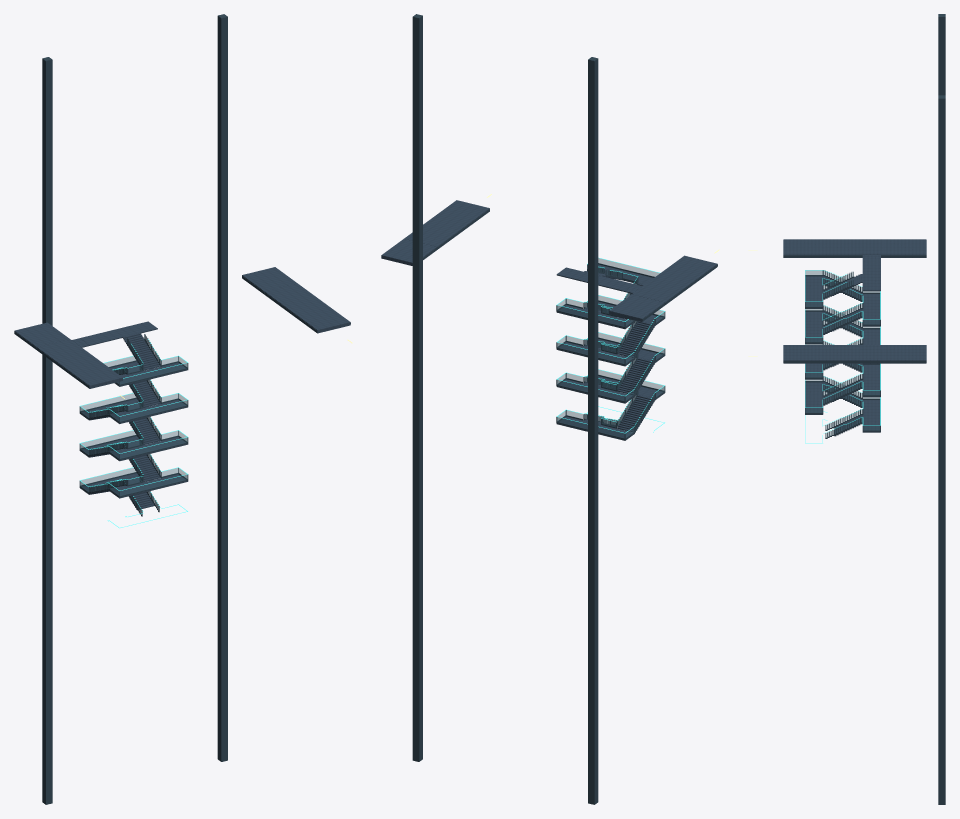
File: v02-detailed-02-03.glb
3 renders of one model, left to right at view 1: azimuth 30°, elevation 25°; view 2: azimuth 150°, elevation 25°; view 3: azimuth 270°, elevation 25°, orthographic. The views are drawn at different scales.
Visible parts, largest first — view 1: v02-detailed-02-03; view 2: v02-detailed-02-03; view 3: v02-detailed-02-03.
Part boxes in pixels (<box>): v02-detailed-02-03: <box>14,14,352,804</box>; v02-detailed-02-03: <box>381,14,719,804</box>; v02-detailed-02-03: <box>748,14,945,804</box>.
Size of the model in its own units: 47.1 by 128 by 32.35.
5 materials, 1 textured.
